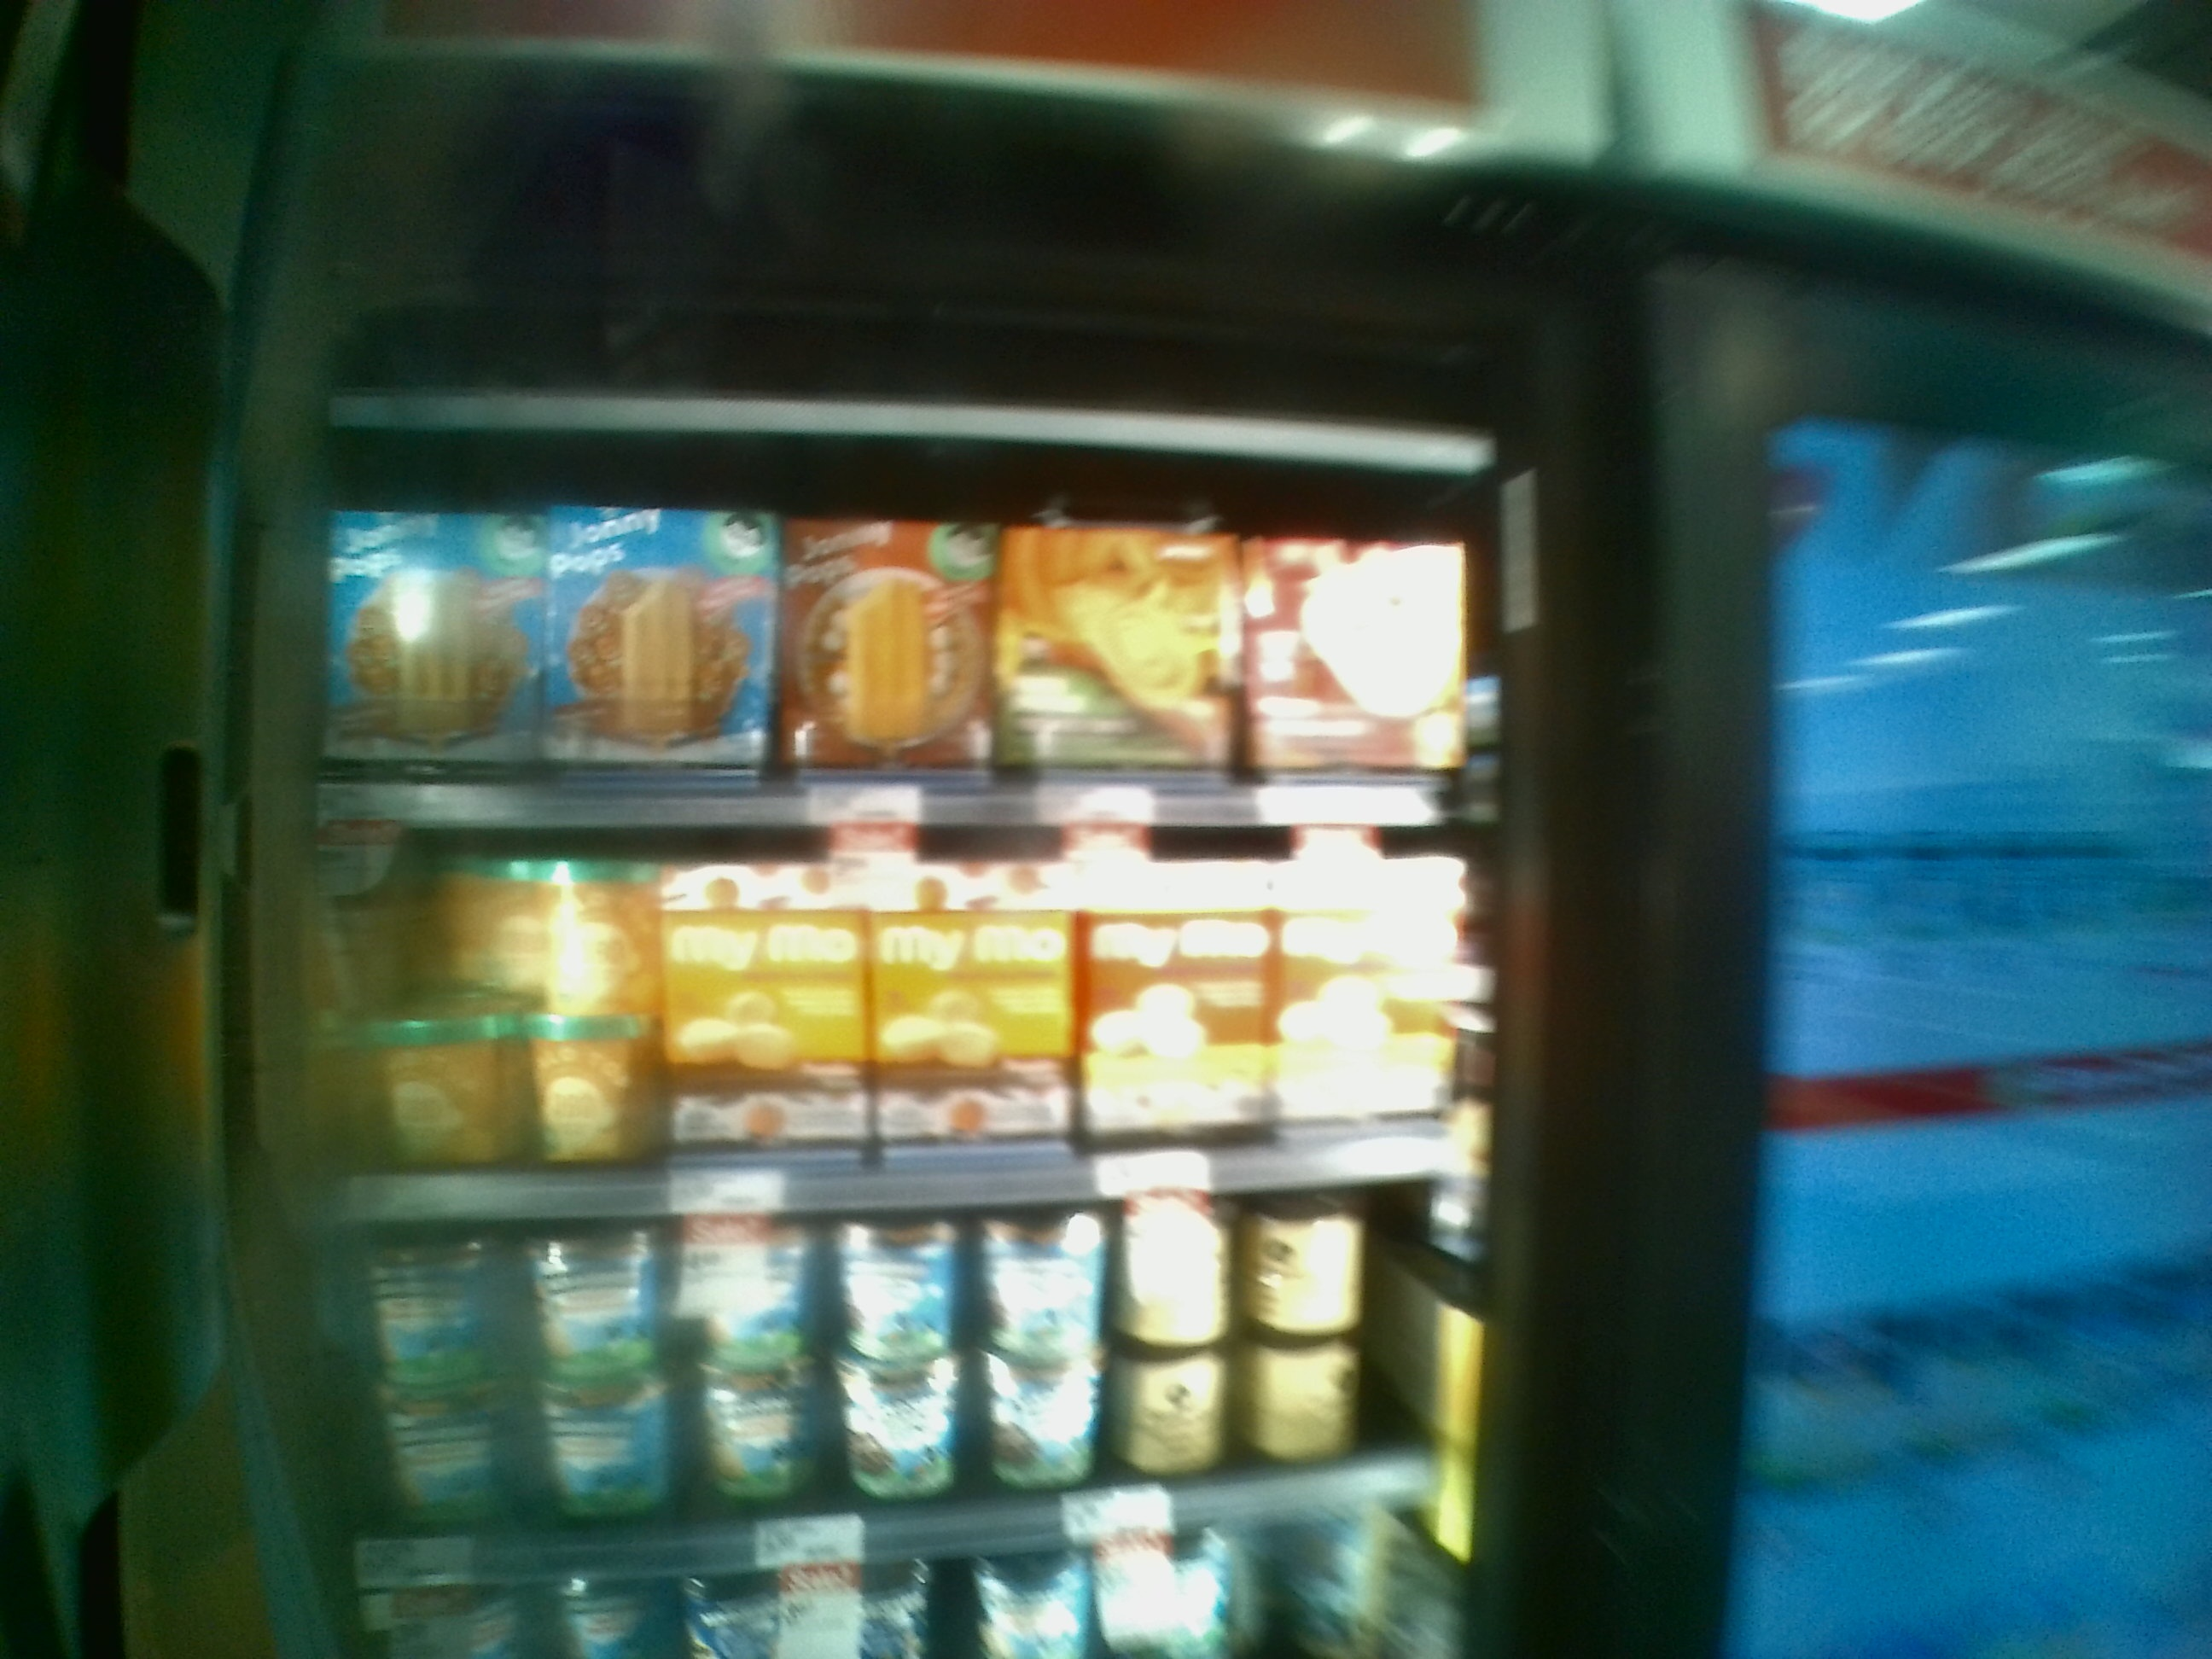shelf: (296, 422, 1493, 817), (286, 798, 1470, 1182), (286, 1190, 1454, 1511)
